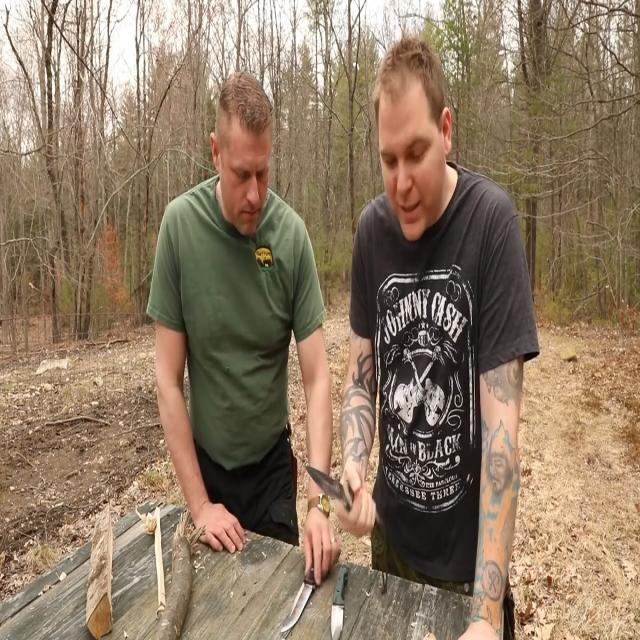knife: (280, 563, 322, 638), (304, 455, 352, 518), (330, 564, 353, 640)
